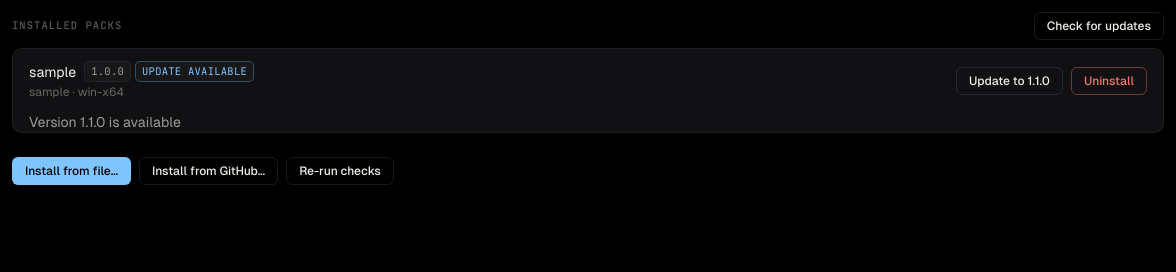
it: PacksSettings › prompts for relaunch after a successful applyUpdate
The width and height of the screenshot is (1176, 272).
Click the button with aria-label "update · sample" at point(1009, 80), box [956,66,1063,94]
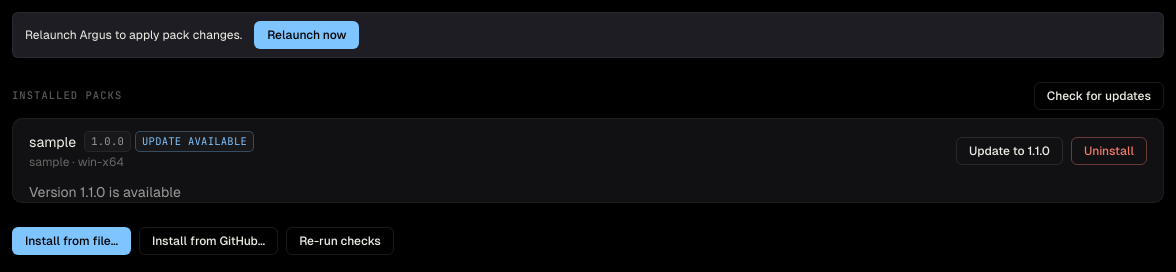
Check: the button "Relaunch now" is shown, box [254,21,359,49]
